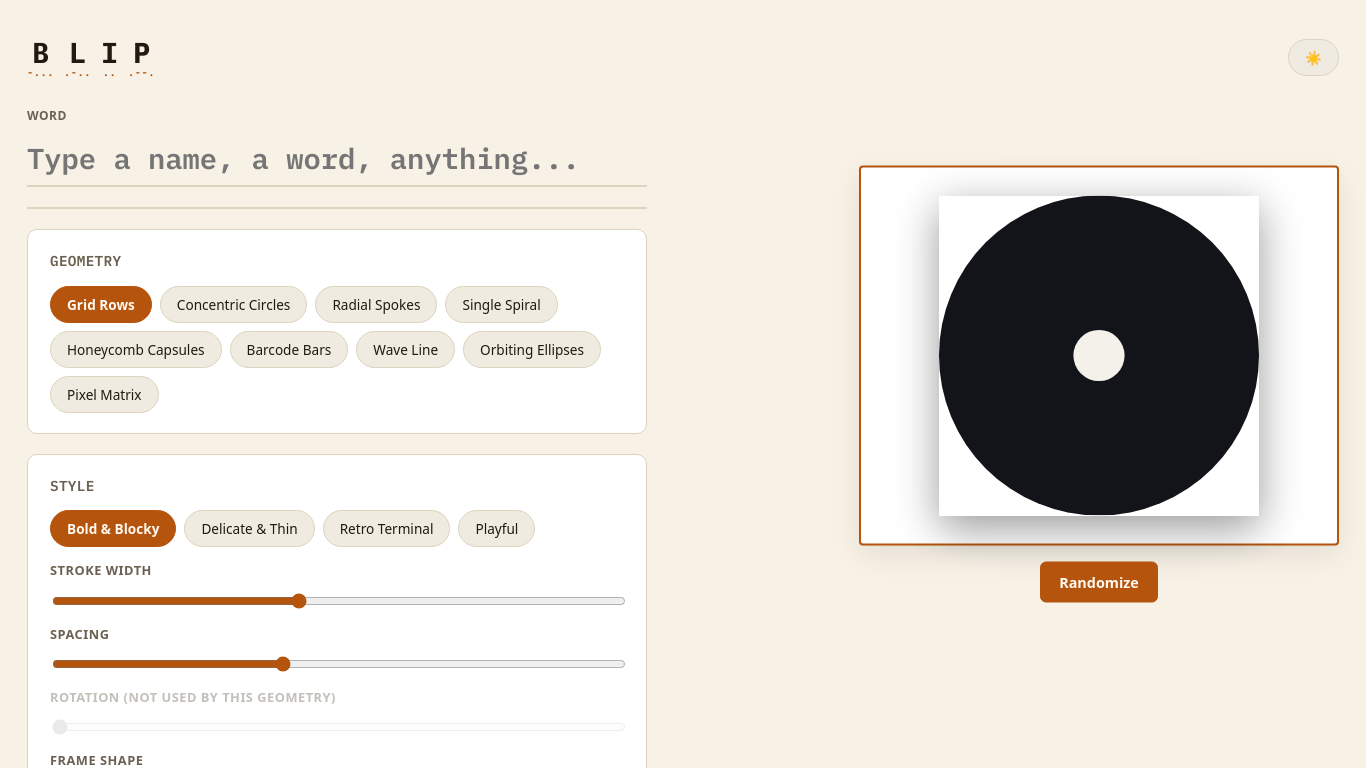
it: Randomize shows an Undo button that restores the previous config
expect the button "undo" is not shown: met
Click the button "Randomize": click(1099, 582) [1040,562,1158,602]
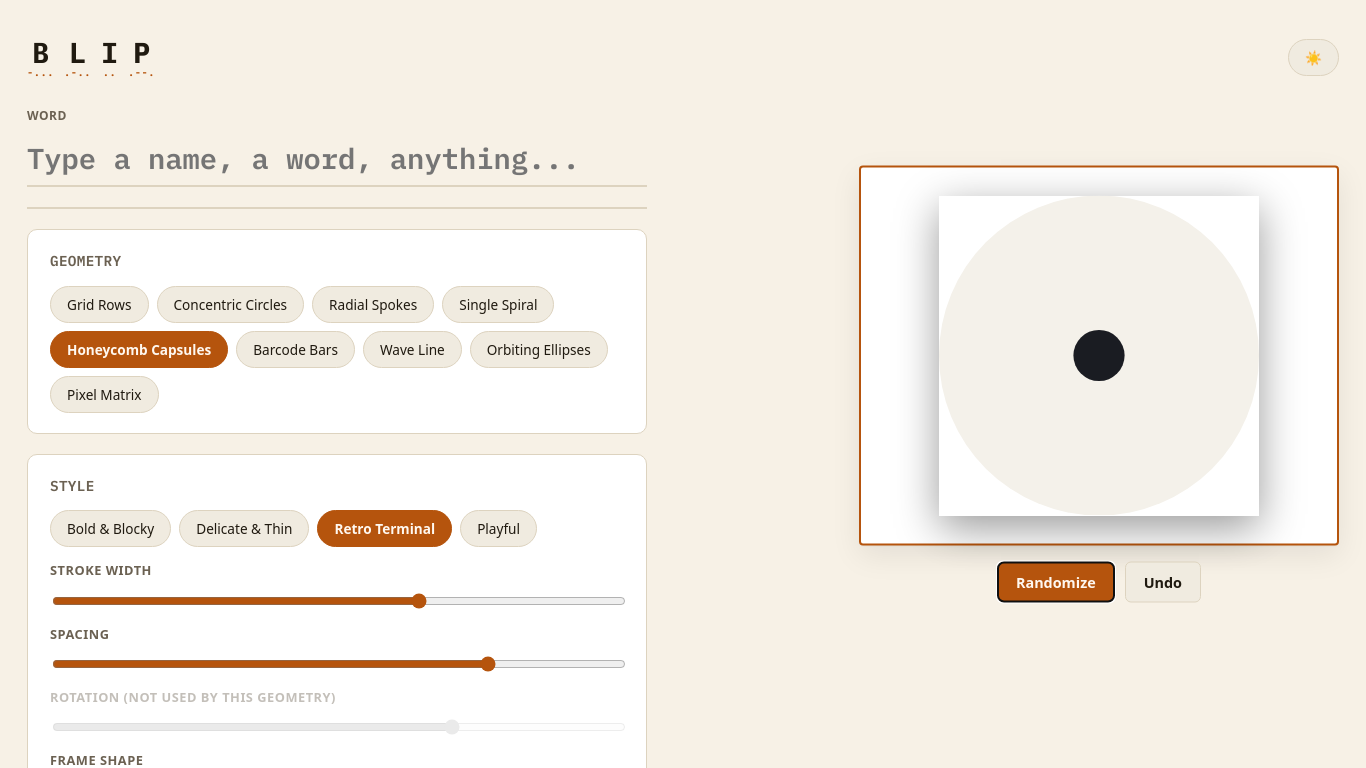
expect the button "Undo" is shown: met
Click the button "Undo": click(1163, 582) [1125,562,1201,602]
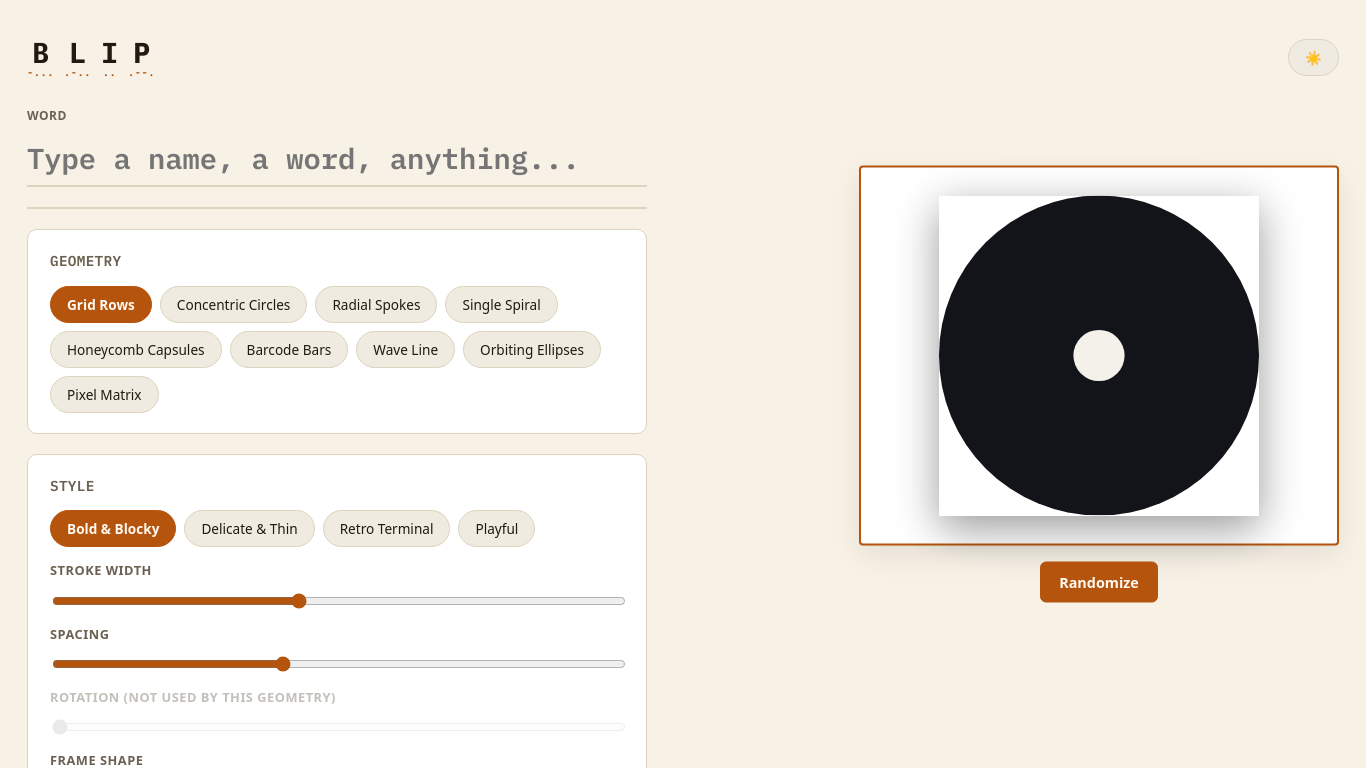
expect the button "Bold & Blocky" is shown: met, box [50,510,176,547]
expect the button "Undo" is gone: met
